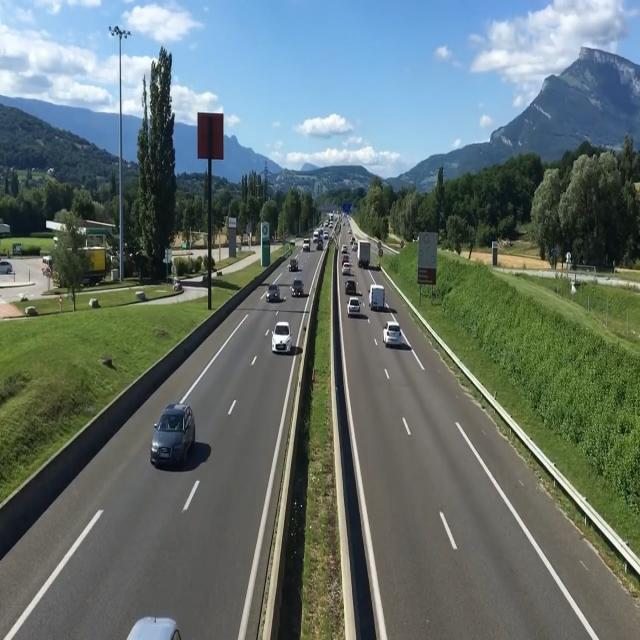car: (152, 399, 197, 473), (124, 602, 179, 640), (271, 315, 294, 355), (384, 315, 406, 351), (370, 282, 388, 315), (266, 276, 281, 306), (345, 294, 363, 318), (291, 274, 306, 302)
truck: (357, 235, 378, 272)
